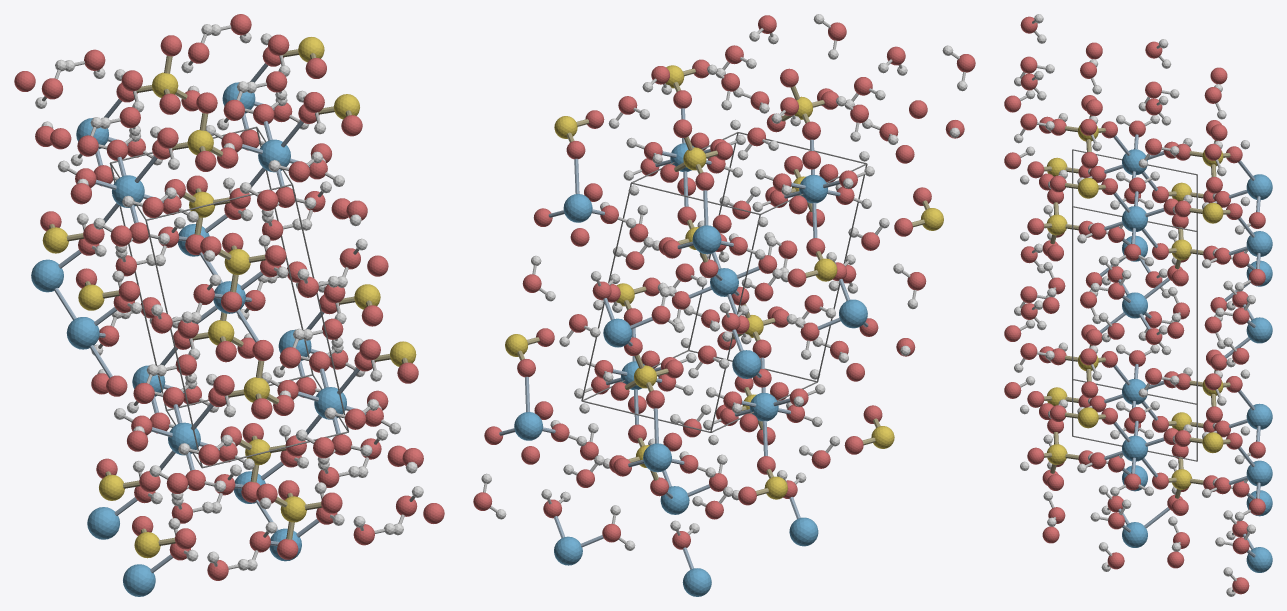
The model's file is CuSO4_5H2O.glb.
3 views of the same model, side by side, from view 1: azimuth 30°, elevation 25°; view 2: azimuth 150°, elevation 25°; view 3: azimuth 270°, elevation 25° (orthographic). The views are drawn at different scales.
Visible parts, largest first — view 1: O_atoms, H_atoms, chemical_bonds, Cu_atoms, S_atoms, unit_cell_outline; view 2: O_atoms, H_atoms, chemical_bonds, Cu_atoms, S_atoms, unit_cell_outline; view 3: O_atoms, H_atoms, chemical_bonds, Cu_atoms, S_atoms, unit_cell_outline.
Part boxes in pixels (box(x1,y1,x2,y2)): O_atoms: box(14, 14, 444, 580); H_atoms: box(35, 24, 423, 570); chemical_bonds: box(42, 25, 415, 573); Cu_atoms: box(31, 82, 346, 596); S_atoms: box(42, 37, 416, 558); unit_cell_outline: box(109, 126, 348, 468); O_atoms: box(473, 15, 975, 549); H_atoms: box(481, 14, 967, 550); chemical_bonds: box(483, 21, 965, 569); Cu_atoms: box(514, 143, 867, 596); S_atoms: box(505, 65, 943, 499); unit_cell_outline: box(581, 132, 867, 432); O_atoms: box(1004, 16, 1265, 594); H_atoms: box(1014, 14, 1255, 596); chemical_bonds: box(1019, 20, 1260, 592); Cu_atoms: box(1122, 149, 1272, 572); S_atoms: box(1047, 125, 1223, 489); unit_cell_outline: box(1072, 149, 1197, 461).
Size of the model in its own units: 18.23 by 22.39 by 12.27.
